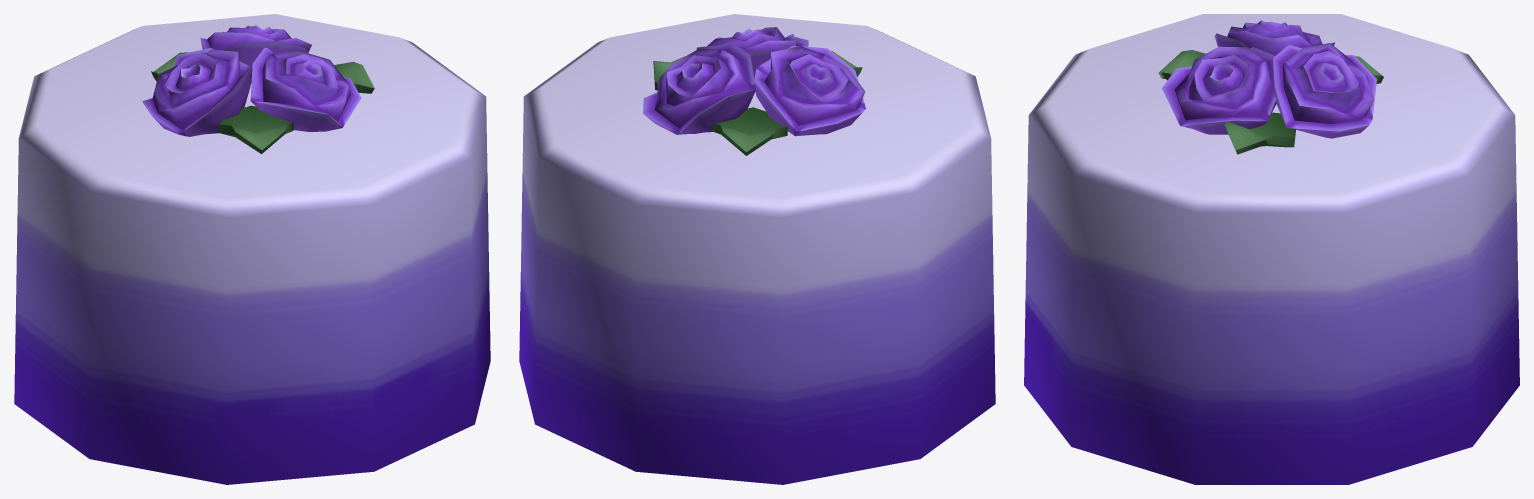
Rendered from RoseCake_Whole.fbx.
3 renders of one model, left to right at view 1: azimuth 30°, elevation 25°; view 2: azimuth 150°, elevation 25°; view 3: azimuth 270°, elevation 25°, orthographic.
Visible parts, largest first — view 1: RoseCake_Whole; view 2: RoseCake_Whole; view 3: RoseCake_Whole.
Boxes of the visible parts, x1,y1,x2,y2 form: RoseCake_Whole: (14,14,490,484); RoseCake_Whole: (519,14,995,484); RoseCake_Whole: (1024,14,1519,484).
Bounding box in the file's own units: 77.51 × 62.18 × 81.5.
